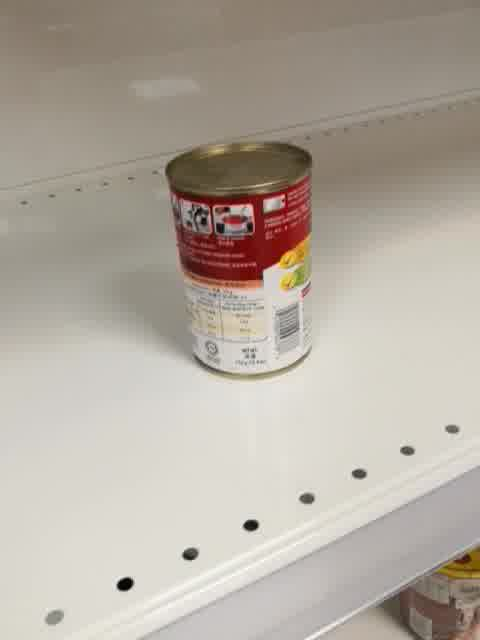tomatosoup: (162, 134, 317, 382)
